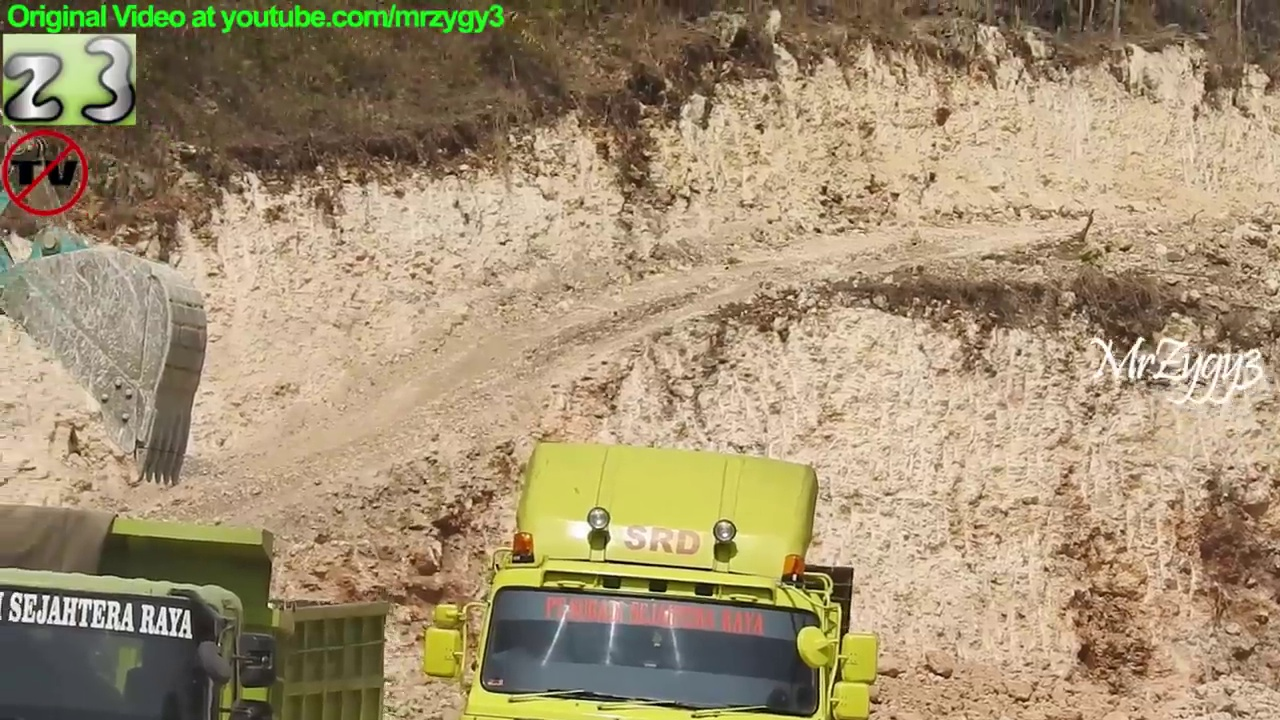excavator: (1, 90, 215, 490)
truck: (420, 431, 884, 720), (1, 498, 395, 720)
